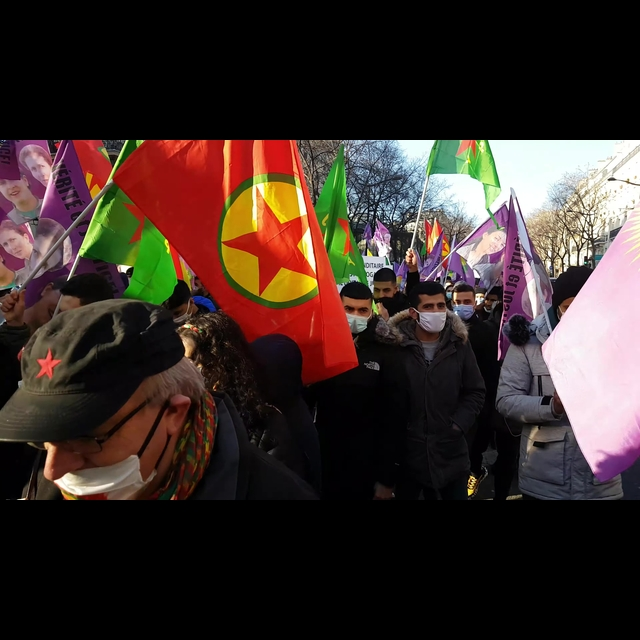PKK: (217, 175, 323, 312)
